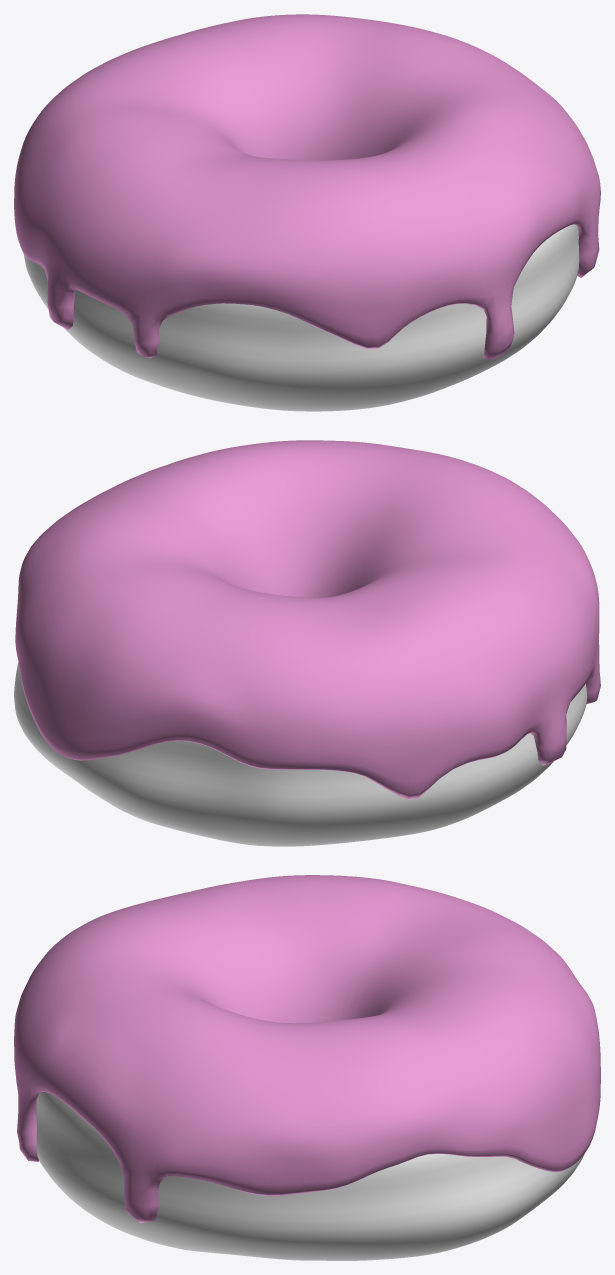
3 renders of one model, top to bottom at view 1: azimuth 30°, elevation 25°; view 2: azimuth 150°, elevation 25°; view 3: azimuth 270°, elevation 25°, orthographic. The views are drawn at different scales.
Visible parts, largest first — view 1: Icing, Donut; view 2: Icing, Donut; view 3: Icing, Donut.
Part boxes in pixels (box(x1,y1,x2,y2)): Icing: box(14, 14, 600, 359); Donut: box(24, 224, 579, 411); Icing: box(15, 440, 600, 799); Donut: box(14, 662, 587, 846); Icing: box(14, 875, 600, 1223); Donut: box(36, 1092, 584, 1260).
Size of what is drawn, in the model's own units: 0.0986 by 0.0447 by 0.0983.
